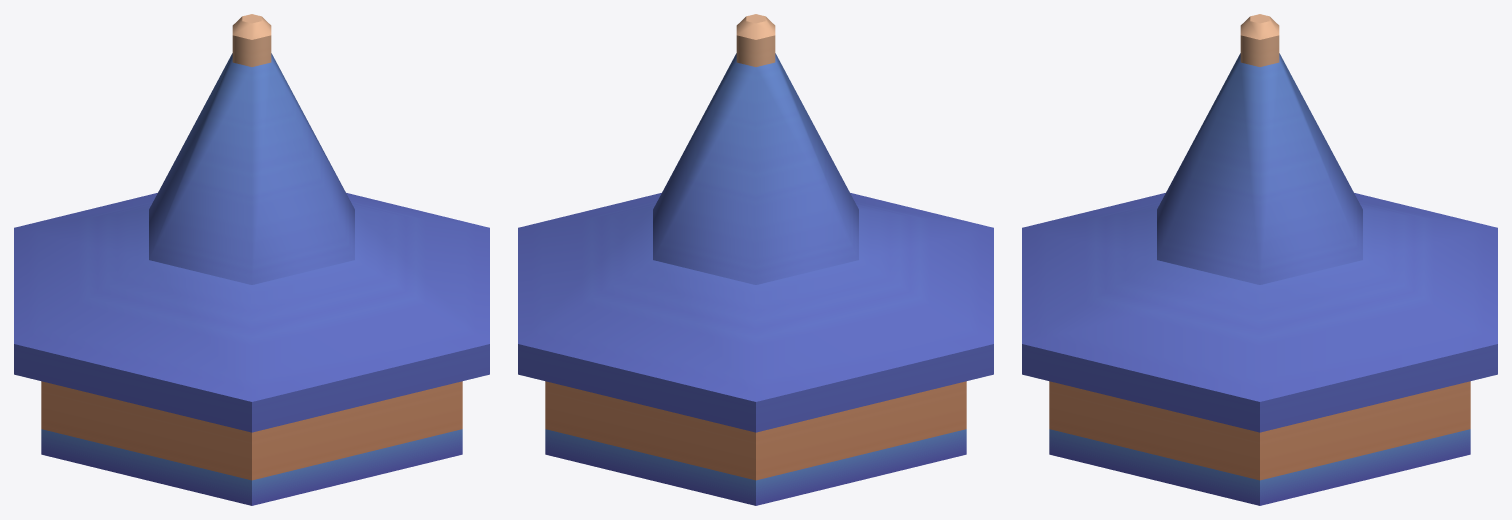
The model's file is tower-hexagon-roof-secondary.obj.
The picture shows the model from 3 angles, left to right: view 1: azimuth 30°, elevation 25°; view 2: azimuth 150°, elevation 25°; view 3: azimuth 270°, elevation 25°; orthographic projection.
Visible parts, largest first — view 1: tower-hexagon-roof-secondary; view 2: tower-hexagon-roof-secondary; view 3: tower-hexagon-roof-secondary.
Part boxes in pixels (left/top/right/bottom): tower-hexagon-roof-secondary: left=14, top=14, right=489, bottom=505; tower-hexagon-roof-secondary: left=518, top=14, right=993, bottom=505; tower-hexagon-roof-secondary: left=1022, top=14, right=1497, bottom=505.
Bounding box in the file's own units: 0.9763 × 0.7537 × 0.8455.
1 material, 1 textured.
